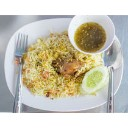briyani: (27, 42, 84, 96)
